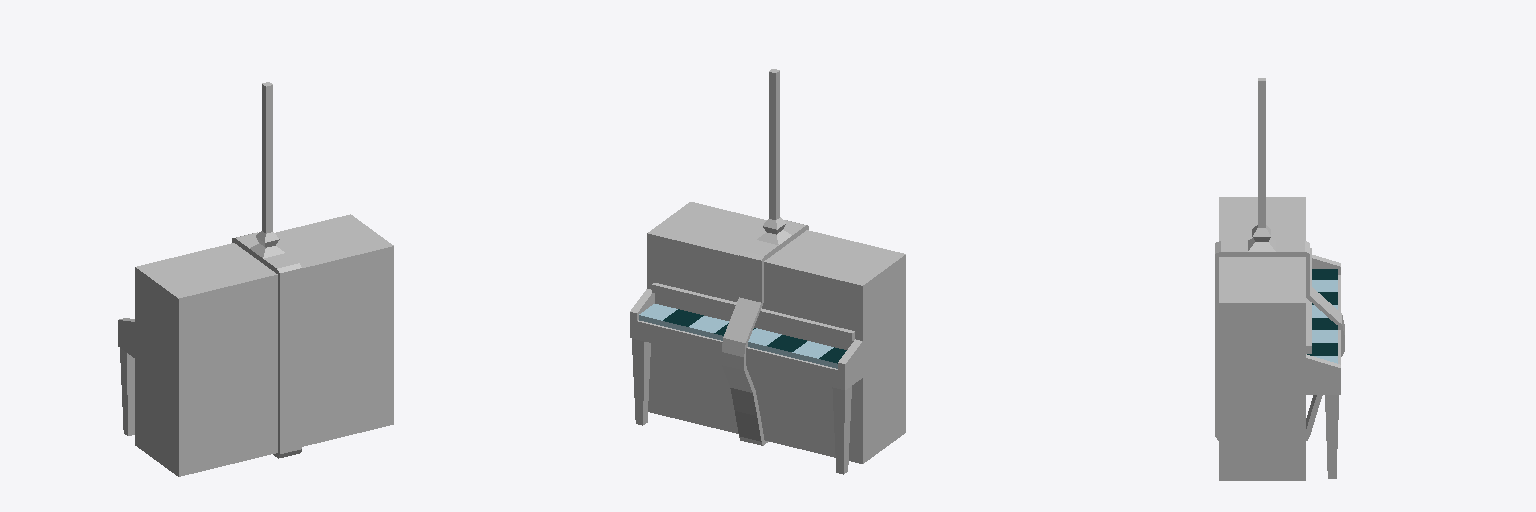
The picture shows the model from 3 angles: view 1: azimuth 30°, elevation 25°; view 2: azimuth 150°, elevation 25°; view 3: azimuth 270°, elevation 25°; orthographic projection.
Visible parts, largest first — view 1: piano with rope, rope_wrapped; view 2: piano with rope, rope_wrapped, keys; view 3: piano with rope, rope_wrapped, keys.
Part boxes in pixels (left/top/right/bottom): piano with rope: left=118, top=214, right=393, bottom=476; rope_wrapped: left=232, top=82, right=301, bottom=458; piano with rope: left=630, top=202, right=905, bottom=474; rope_wrapped: left=722, top=69, right=808, bottom=445; keys: left=639, top=304, right=846, bottom=368; piano with rope: left=1219, top=197, right=1340, bottom=480; rope_wrapped: left=1215, top=78, right=1344, bottom=440; keys: left=1307, top=269, right=1337, bottom=363.
Size of the model in its own units: 0.5375 by 0.8469 by 0.2812.
Materials: 3 (1 with a texture image).